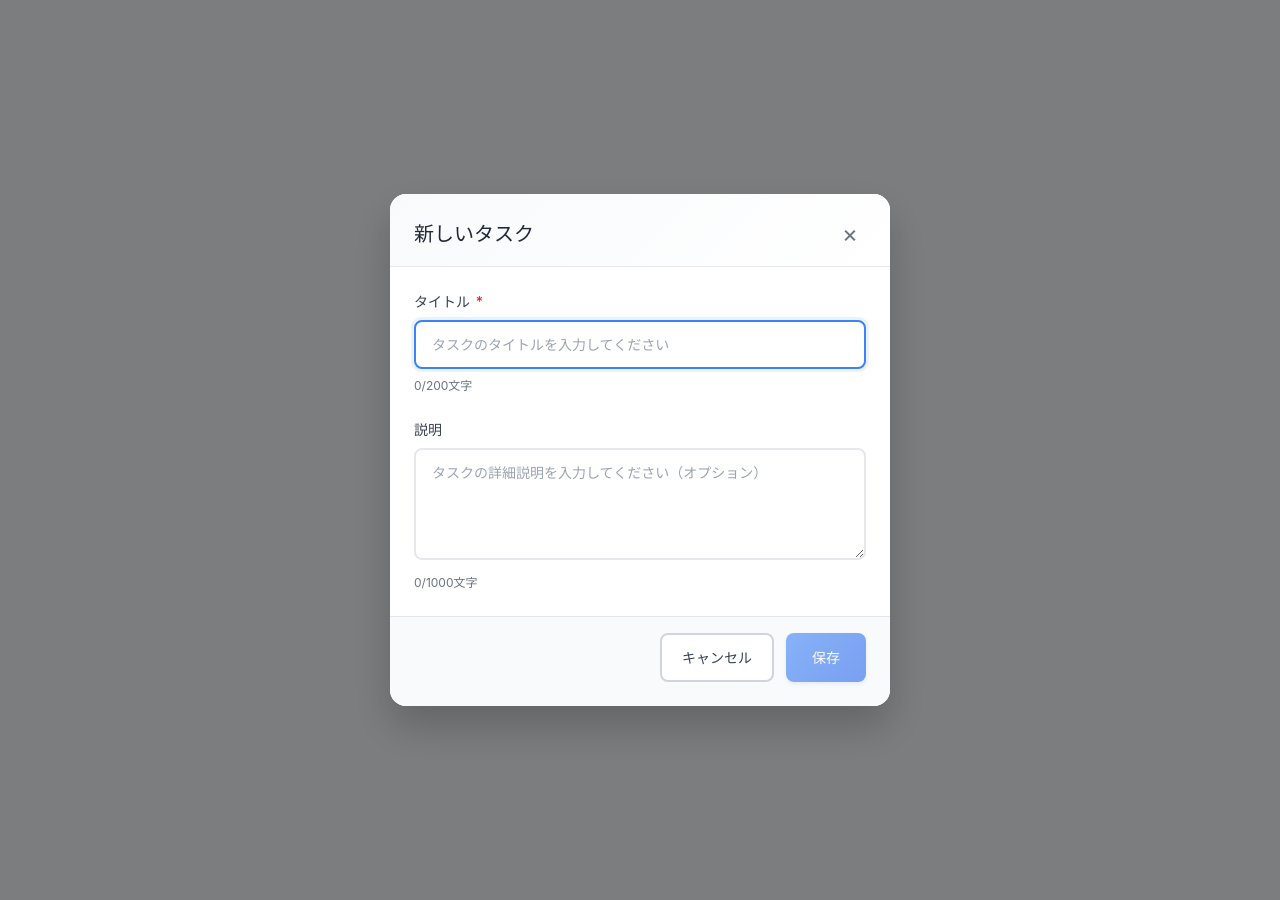
it: TaskForm › Character Count Display › updates character count as user types
The width and height of the screenshot is (1280, 900).
Type "Test" into the field labelled "タイトル *" at (640, 344), box 414,320 -> 866,369
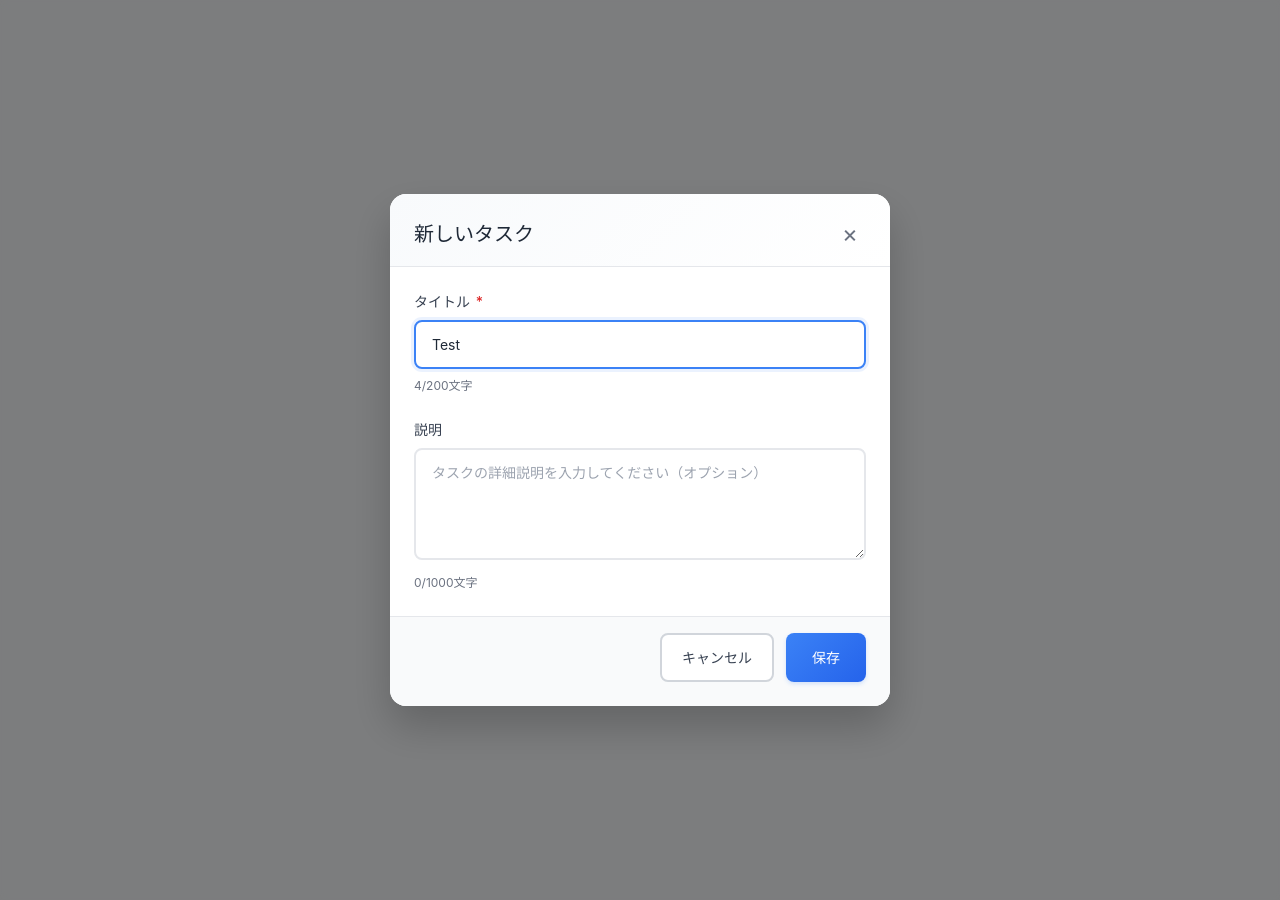
Check: the text "4/200文字" is shown, box 414,378 -> 473,393
